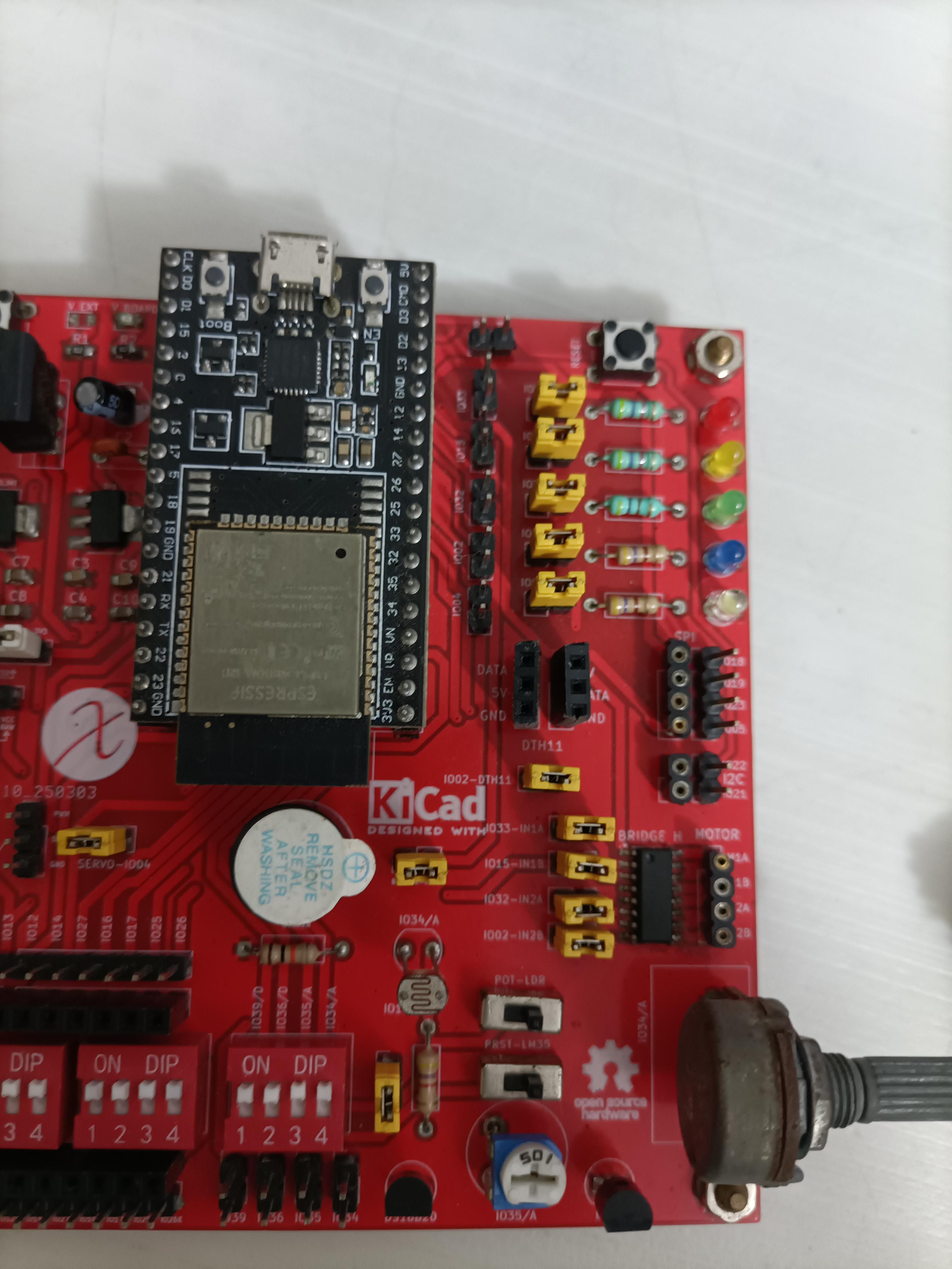LED: (702, 587, 753, 635), (699, 484, 752, 529), (693, 389, 747, 431), (701, 435, 747, 482), (700, 535, 750, 576)
Resistencia: (410, 1040, 445, 1118), (249, 939, 328, 968), (606, 540, 675, 572), (603, 488, 670, 520), (602, 395, 671, 424), (601, 445, 670, 473), (604, 589, 666, 617)
